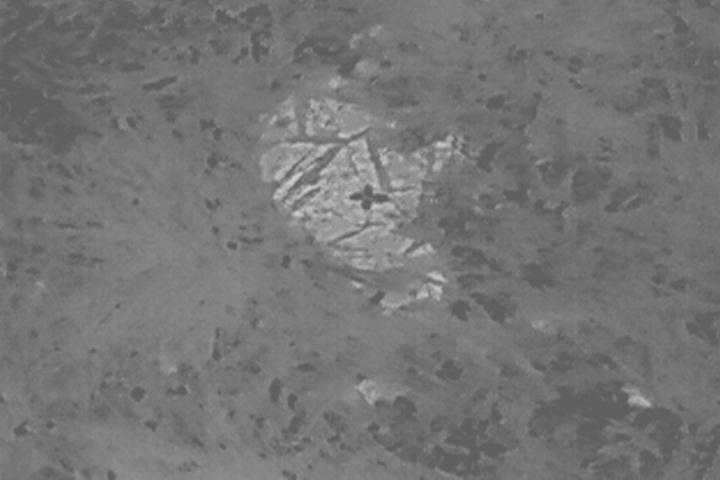landmine: (259, 72, 473, 306)
